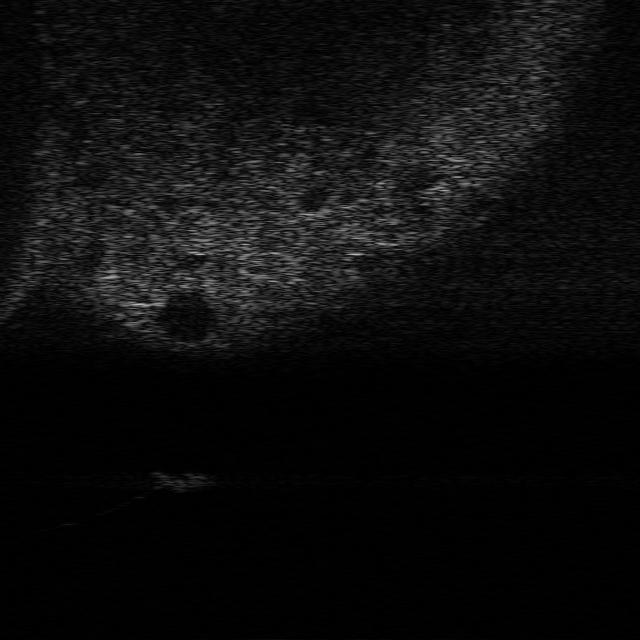cube: (151, 467, 211, 495)
